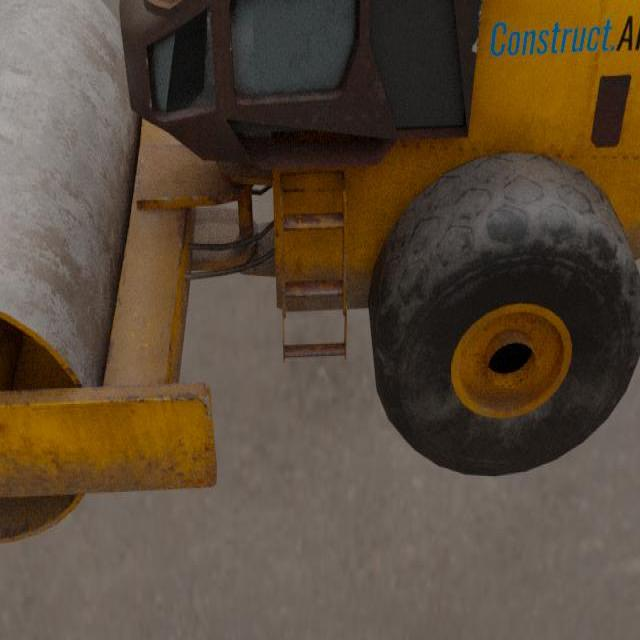Roller: (0, 0, 640, 545)
